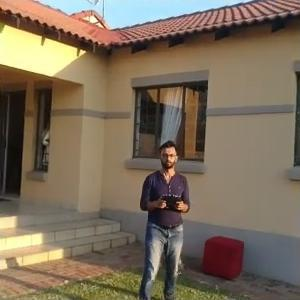follow: (134, 134, 193, 298)
